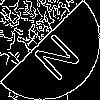N: (25, 25, 83, 83)
